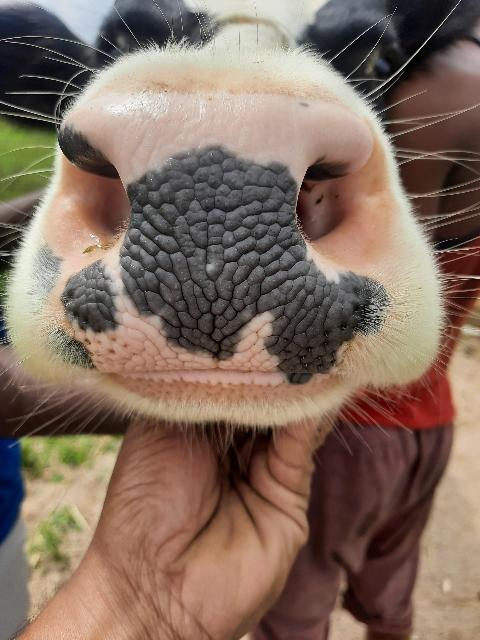Muzzle: (57, 97, 364, 379)
